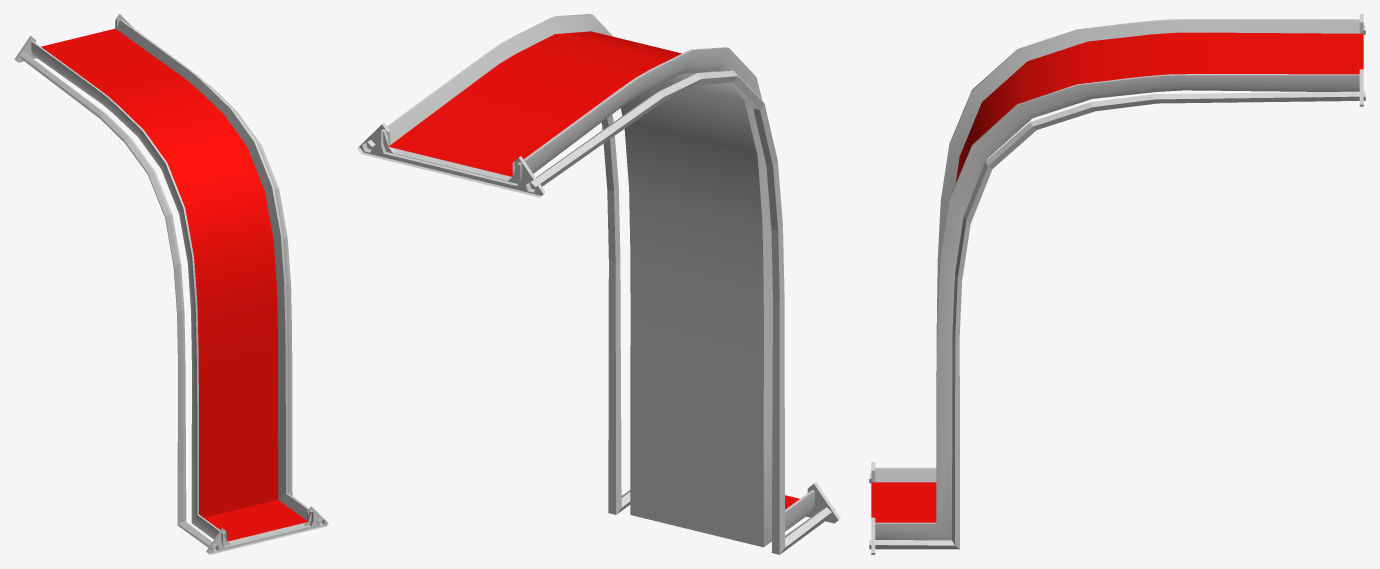
File: RacetrackRampDown.fbx
3 renders of one model, left to right at view 1: azimuth 30°, elevation 25°; view 2: azimuth 150°, elevation 25°; view 3: azimuth 270°, elevation 25°, orthographic. The views are drawn at different scales.
Visible parts, largest first — view 1: RacetrackRampDown.001, RacetrackRampDown, RacetrackRampDown.002; view 2: RacetrackRampDown, RacetrackRampDown.001, RacetrackRampDown.002; view 3: RacetrackRampDown, RacetrackRampDown.001, RacetrackRampDown.002.
Part boxes in pixels (x1=…): RacetrackRampDown.001: x1=41, y1=28, x2=307, y2=541; RacetrackRampDown: x1=14, y1=14, x2=328, y2=554; RacetrackRampDown.002: x1=18, y1=52, x2=324, y2=551; RacetrackRampDown: x1=357, y1=14, x2=840, y2=547; RacetrackRampDown.001: x1=388, y1=31, x2=799, y2=509; RacetrackRampDown.002: x1=362, y1=70, x2=835, y2=554; RacetrackRampDown: x1=871, y1=14, x2=1363, y2=554; RacetrackRampDown.001: x1=871, y1=32, x2=1363, y2=522; RacetrackRampDown.002: x1=869, y1=25, x2=1365, y2=549.
Bounding box in the file's own units: 3604 × 10645 × 10030.
